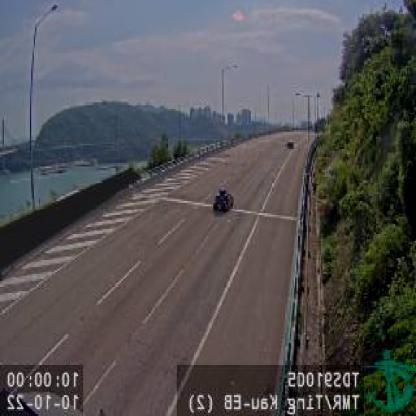Car: (213, 189, 232, 213)
